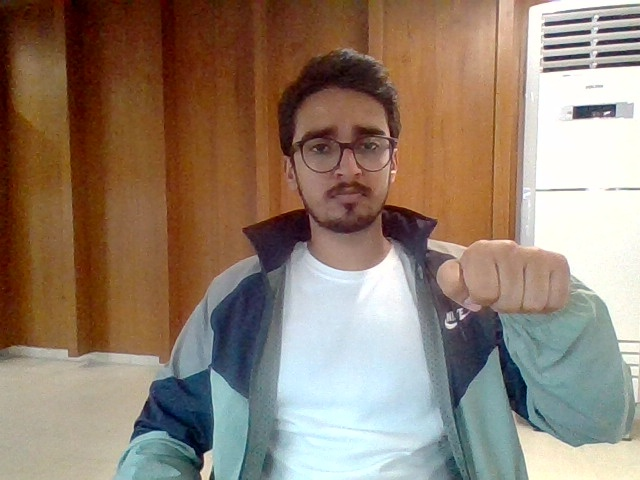YES: (434, 237, 577, 321)
